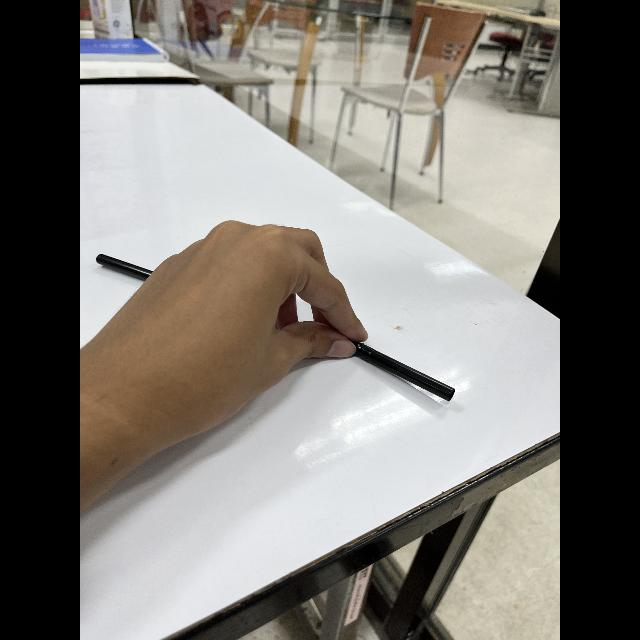straw: (90, 246, 458, 406)
